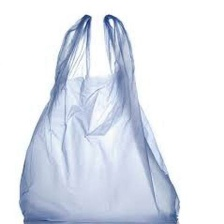plastic_bag: (13, 13, 182, 224)
